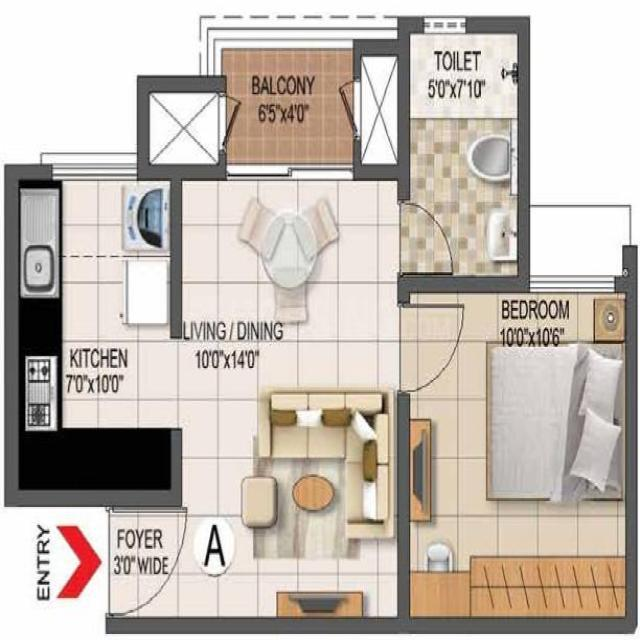Balcony-Sitout: (221, 48, 354, 163)
Bedroom: (411, 293, 626, 617)
Dining: (237, 188, 339, 328)
Enterance-Foyer: (54, 507, 191, 617)
Kitchen: (19, 179, 172, 490)
Living: (193, 371, 398, 618)
Toilet: (409, 34, 517, 276)
